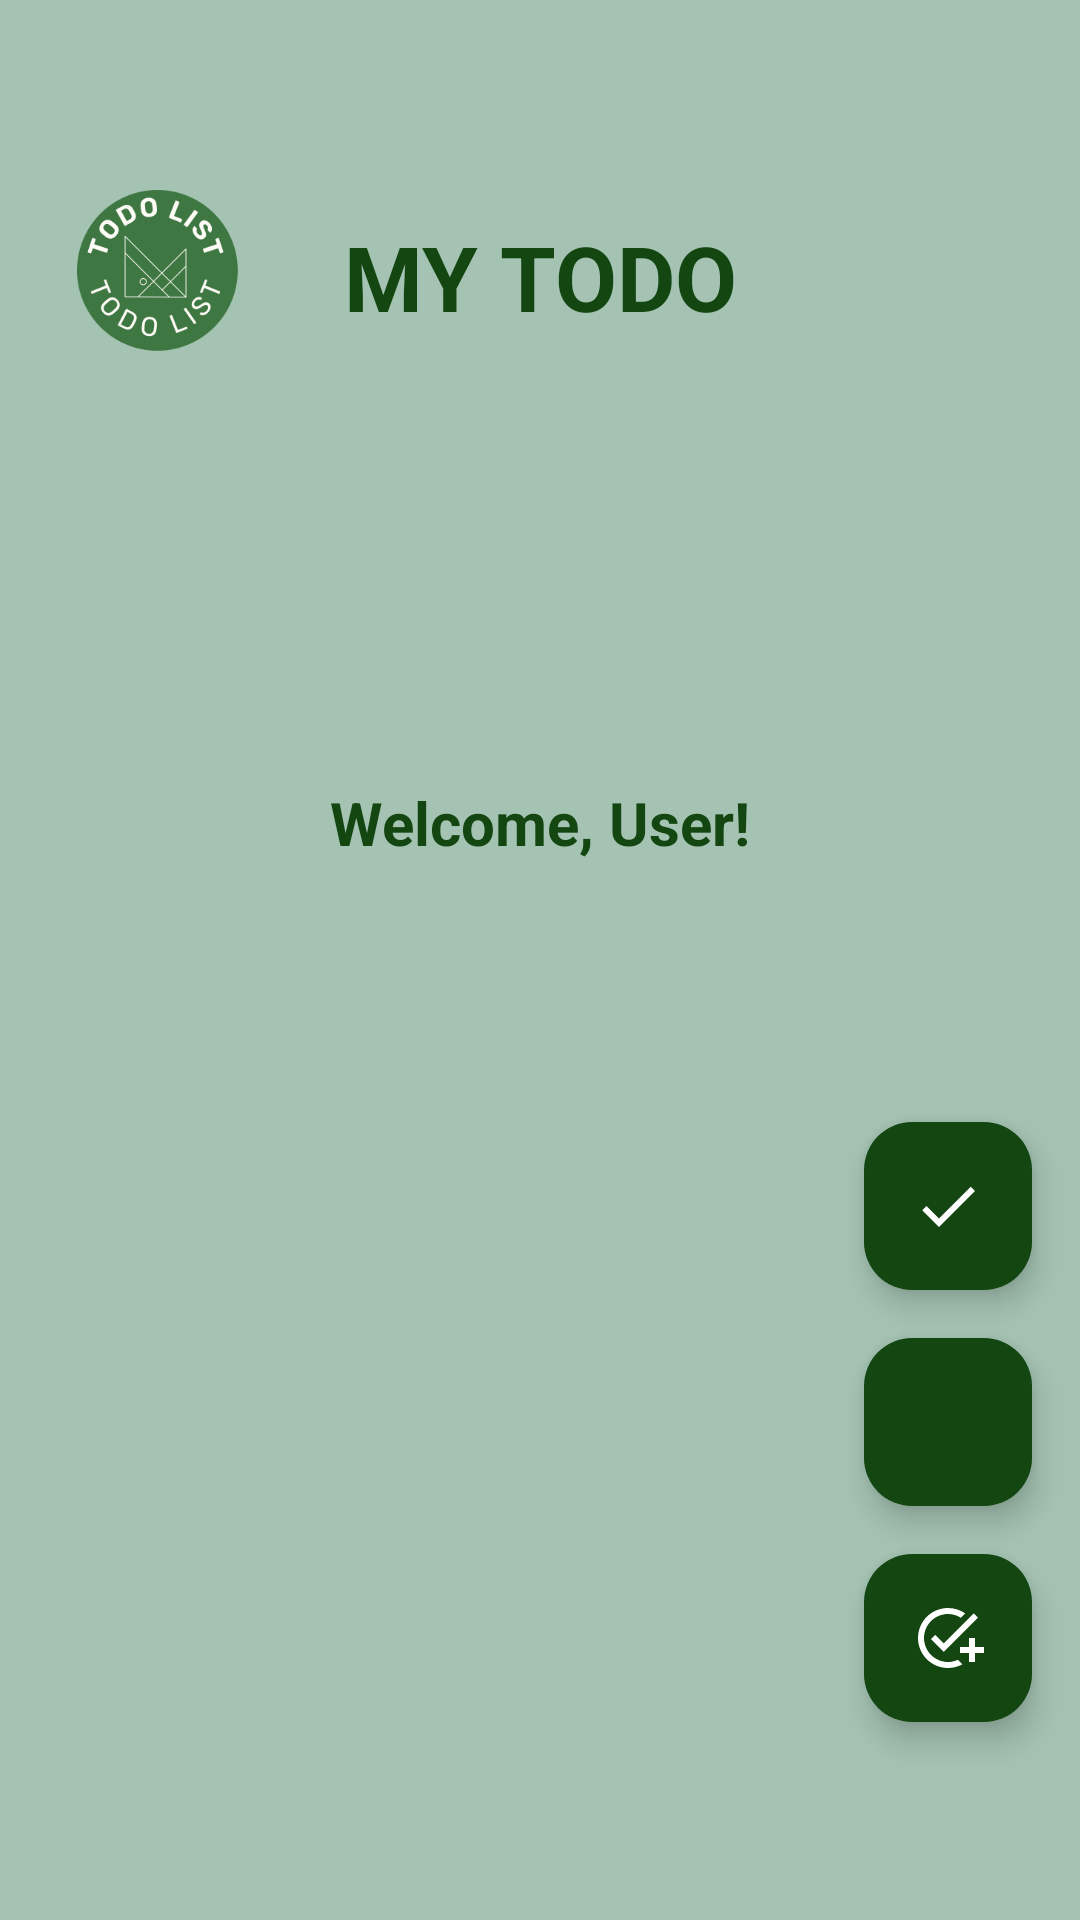

Icons on this 1080*1920 Android screen, each with the point to tap as (x=x, y=y):
add task: (x=948, y=1638)
Completed Todos: (x=948, y=1206)
